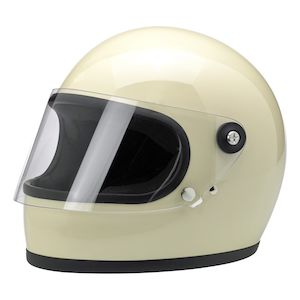with_helmet: (16, 24, 287, 274)
